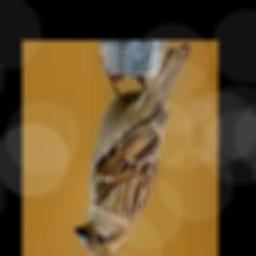Sparrow: (74, 46, 192, 256)
